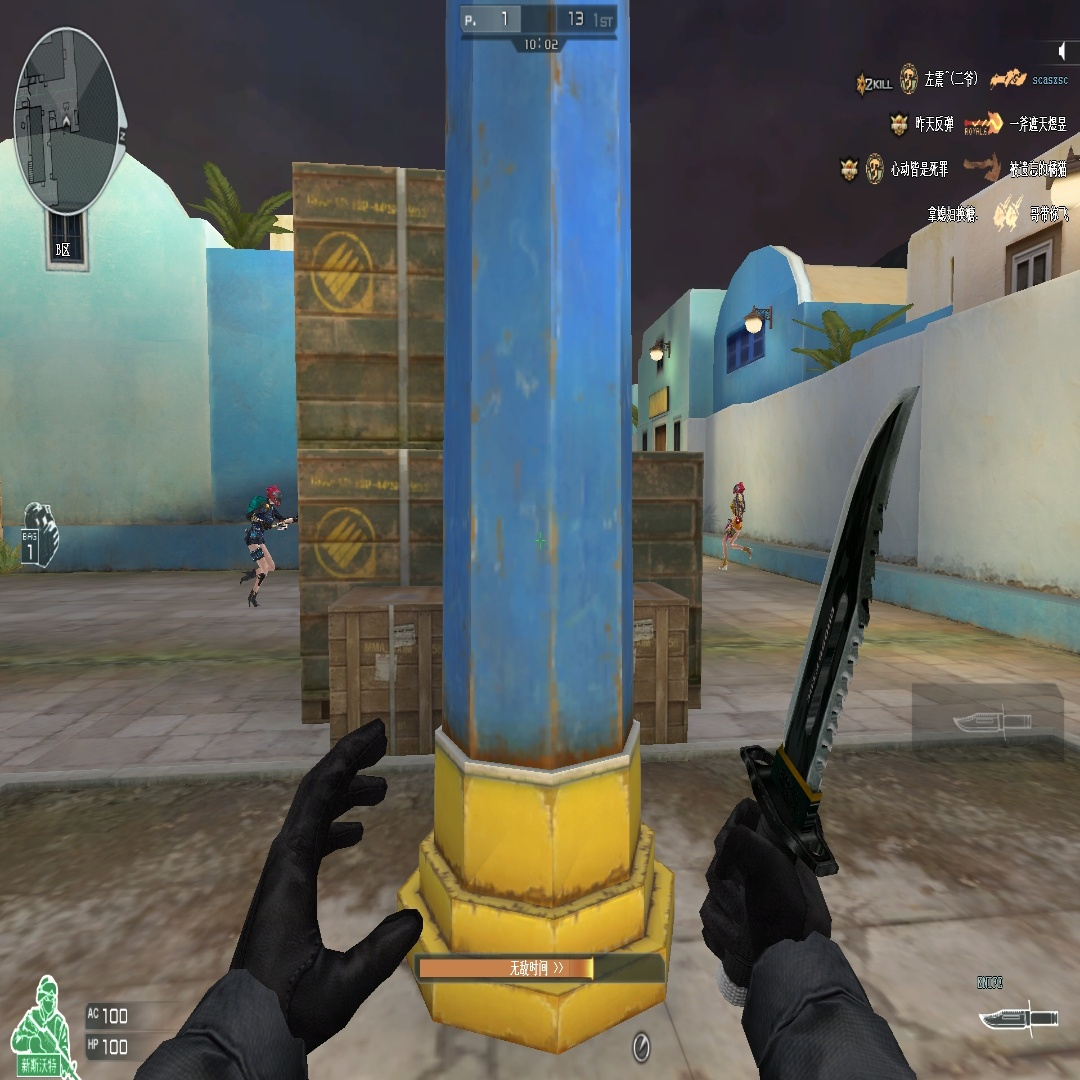head: (267, 485, 281, 507)
p: (242, 485, 282, 606)
